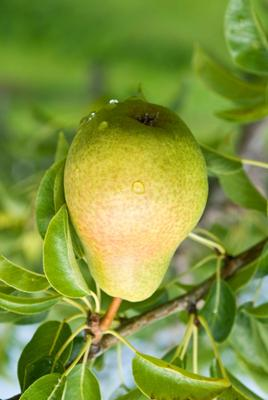pear: (0, 0, 268, 400)
